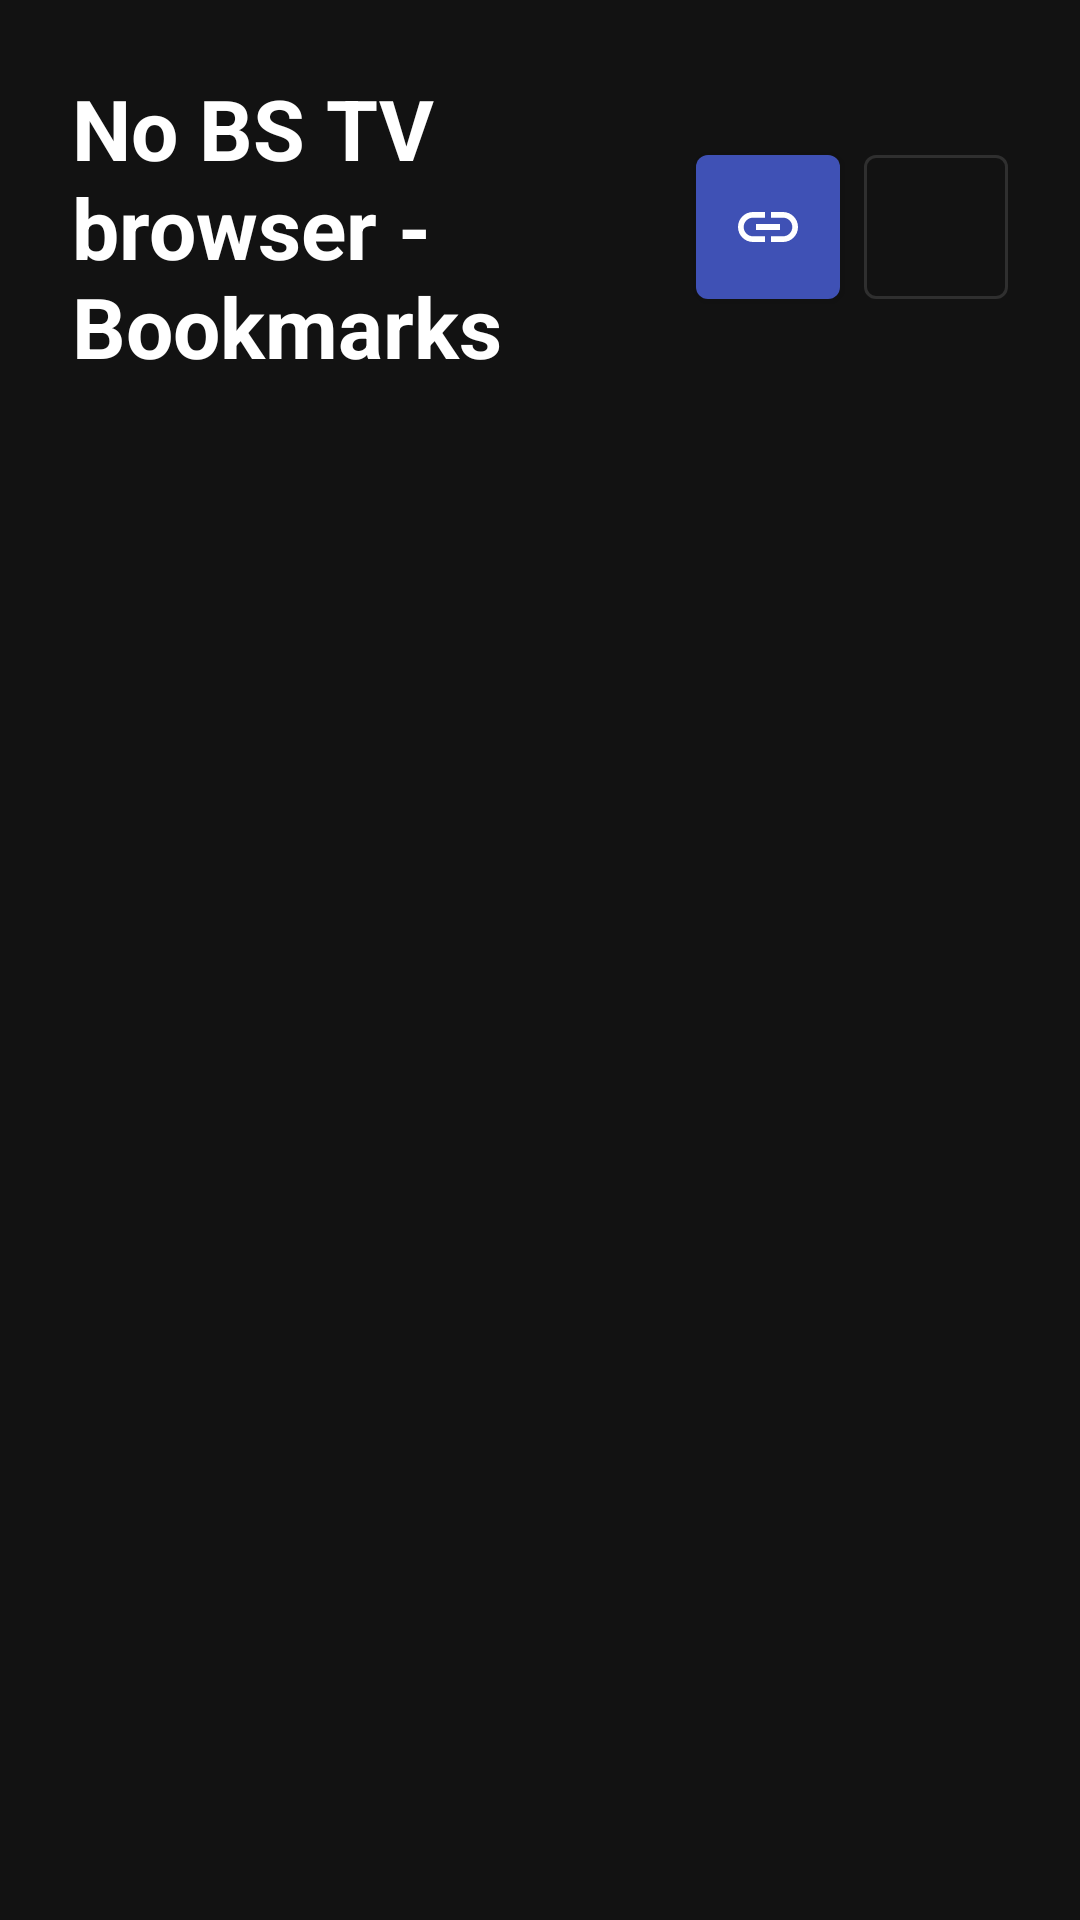

Locate icon controls on the screen. Image size 1080 × 1920, boxes as (left=x1, top=y1, right=x2, bottom=y2).
Enter URL: (left=696, top=155, right=840, bottom=299)
